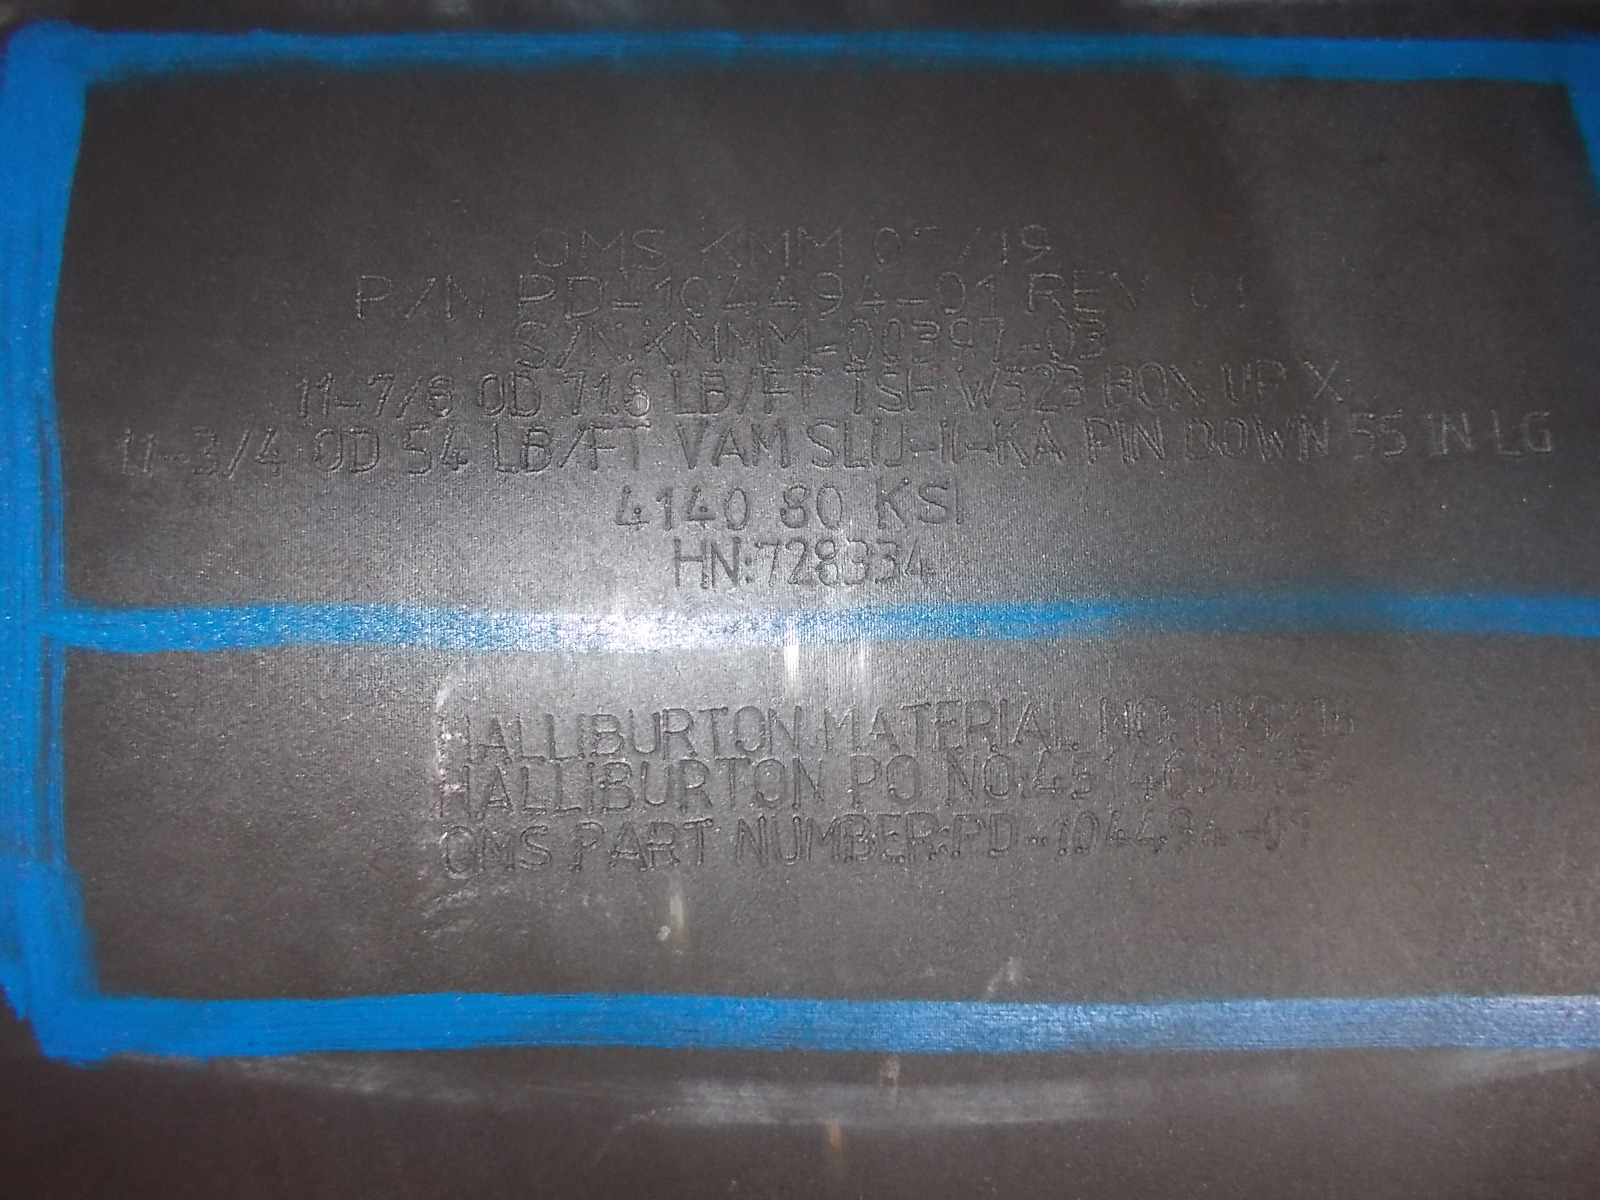character: (438, 268, 490, 332), (692, 217, 747, 270), (430, 824, 479, 881), (867, 474, 913, 533), (396, 265, 438, 329), (792, 224, 852, 270), (351, 267, 396, 328), (950, 361, 1000, 413), (430, 708, 477, 764), (1303, 353, 1351, 406), (432, 764, 474, 824), (607, 816, 645, 881), (1106, 263, 1158, 311), (790, 755, 834, 811), (567, 821, 607, 881), (610, 480, 653, 537), (572, 226, 626, 270), (1010, 698, 1054, 753), (1169, 355, 1209, 415), (680, 814, 721, 874), (1017, 270, 1067, 316), (561, 270, 606, 321), (748, 420, 792, 473), (475, 763, 513, 824), (510, 271, 559, 318), (1252, 413, 1296, 465), (254, 420, 290, 484), (913, 475, 952, 533), (1439, 405, 1480, 459), (480, 822, 518, 881), (645, 816, 683, 875), (671, 416, 712, 471), (678, 316, 722, 367), (671, 537, 711, 594), (624, 706, 663, 763), (1487, 403, 1523, 464), (763, 319, 810, 366), (1179, 268, 1225, 316), (186, 424, 223, 483), (771, 478, 813, 529), (1230, 262, 1267, 319), (751, 755, 789, 812), (344, 424, 384, 476), (1180, 413, 1220, 468), (1094, 695, 1133, 749), (1027, 417, 1070, 466), (866, 223, 907, 274), (993, 416, 1031, 471), (804, 813, 842, 868), (884, 755, 926, 805), (862, 705, 903, 755), (1100, 355, 1135, 415), (519, 425, 556, 482), (729, 701, 766, 758), (1067, 263, 1106, 316), (675, 759, 714, 812), (626, 226, 671, 271), (747, 224, 792, 270), (906, 809, 940, 870), (940, 755, 981, 804), (505, 371, 546, 421), (398, 424, 435, 479), (766, 701, 803, 756), (635, 759, 674, 811), (1135, 355, 1169, 415), (663, 706, 698, 763), (597, 760, 632, 817), (929, 268, 971, 315), (435, 424, 471, 478), (805, 416, 842, 470), (842, 811, 876, 868), (1133, 691, 1167, 749), (717, 478, 752, 533), (734, 813, 770, 868), (1296, 413, 1334, 465), (1078, 416, 1116, 468), (518, 822, 556, 874), (845, 756, 883, 808), (1165, 800, 1197, 862), (486, 422, 519, 482), (900, 696, 932, 755), (821, 707, 863, 754), (810, 268, 847, 321), (1018, 218, 1054, 271), (1218, 353, 1255, 406), (714, 758, 751, 811), (1133, 415, 1167, 471), (931, 698, 965, 755), (616, 418, 655, 468), (724, 316, 763, 366), (511, 710, 547, 764), (511, 320, 549, 371), (965, 695, 997, 755), (680, 482, 717, 533), (712, 420, 748, 471), (770, 813, 804, 868), (585, 319, 624, 367), (639, 319, 678, 367), (309, 424, 344, 476), (711, 534, 742, 594), (513, 763, 546, 819), (976, 311, 1010, 366), (905, 537, 939, 591), (477, 710, 511, 764), (695, 703, 729, 758), (871, 366, 907, 416), (1028, 751, 1065, 802), (529, 226, 572, 268), (223, 420, 252, 483), (1377, 408, 1410, 464), (842, 534, 874, 590), (753, 536, 786, 591), (986, 809, 1020, 862), (1070, 809, 1104, 862), (664, 368, 700, 417), (876, 811, 906, 870), (811, 533, 843, 590), (907, 366, 942, 416), (472, 367, 505, 421), (679, 272, 717, 319), (551, 319, 585, 371), (951, 811, 985, 862), (547, 708, 577, 766), (1053, 693, 1083, 751), (1346, 408, 1377, 464), (1522, 407, 1557, 456), (853, 274, 892, 318), (551, 761, 580, 821), (813, 479, 847, 529), (874, 534, 905, 591), (587, 712, 625, 758), (1288, 802, 1322, 852), (1255, 353, 1288, 405), (1065, 750, 1097, 802), (981, 753, 1017, 800), (1199, 804, 1228, 862), (721, 274, 760, 316), (910, 316, 944, 366), (426, 368, 457, 421), (1220, 415, 1251, 468), (363, 369, 396, 420), (1162, 747, 1194, 798), (1000, 362, 1031, 416), (1076, 318, 1114, 361), (791, 367, 829, 410), (844, 318, 877, 367), (700, 368, 733, 417), (1031, 359, 1058, 417), (1126, 747, 1157, 800), (557, 421, 588, 471), (1054, 363, 1086, 413), (877, 315, 907, 367), (760, 367, 791, 416), (1043, 315, 1077, 361), (944, 316, 978, 362), (397, 367, 426, 420), (842, 418, 871, 471), (586, 418, 616, 469), (766, 274, 803, 315), (986, 223, 1018, 271), (557, 371, 587, 420), (1261, 802, 1288, 857), (786, 533, 811, 591), (312, 363, 336, 424), (622, 371, 655, 415), (1134, 808, 1162, 858), (952, 223, 984, 267), (653, 479, 677, 537), (845, 366, 871, 418), (884, 418, 910, 471), (1196, 747, 1223, 795), (971, 274, 1002, 315), (1180, 695, 1202, 753), (734, 367, 760, 416), (1099, 747, 1121, 800), (952, 473, 973, 529), (1204, 695, 1225, 750), (1104, 808, 1126, 857), (1420, 405, 1439, 463), (1053, 807, 1071, 863), (291, 377, 312, 424), (580, 761, 597, 817), (590, 366, 610, 413), (653, 276, 674, 318), (1116, 416, 1131, 471), (997, 695, 1010, 753), (871, 416, 884, 471), (1233, 822, 1264, 845), (813, 338, 842, 361), (1020, 829, 1049, 852), (576, 708, 587, 765), (610, 296, 649, 313), (333, 397, 367, 413), (908, 441, 940, 458), (1165, 713, 1180, 747), (894, 294, 930, 308), (939, 822, 951, 857), (743, 552, 753, 587), (1020, 339, 1043, 354), (624, 340, 632, 364), (1019, 788, 1032, 800), (611, 403, 619, 416)
